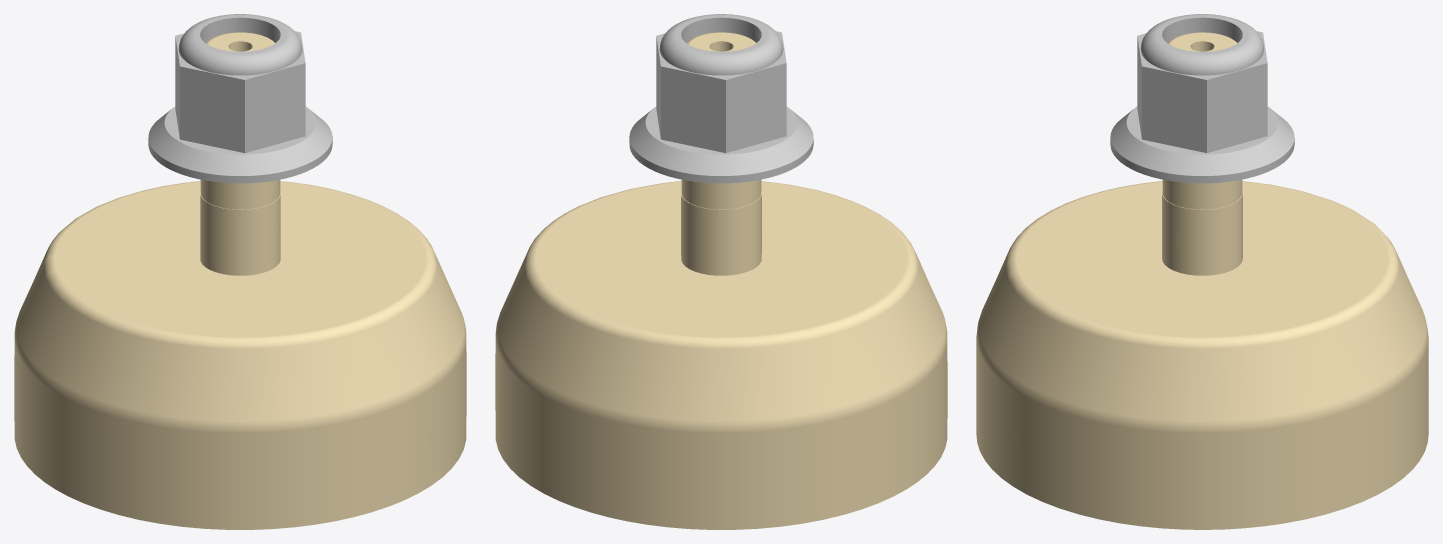
The model's file is rotor.dae.
3 views of the same model, side by side, from view 1: azimuth 30°, elevation 25°; view 2: azimuth 150°, elevation 25°; view 3: azimuth 270°, elevation 25° (orthographic).
Parts seen in each view (by area): view 1: motor.002, Body1; view 2: motor.002, Body1; view 3: motor.002, Body1.
Boxes of the visible parts, box(x1,y1,x2,y2) form: motor.002: box(14, 32, 466, 529); Body1: box(148, 14, 332, 183); motor.002: box(495, 32, 947, 529); Body1: box(629, 14, 813, 183); motor.002: box(976, 32, 1428, 529); Body1: box(1110, 14, 1294, 183).
Size of the model in its own units: 0.028 by 0.028 by 0.0273.
